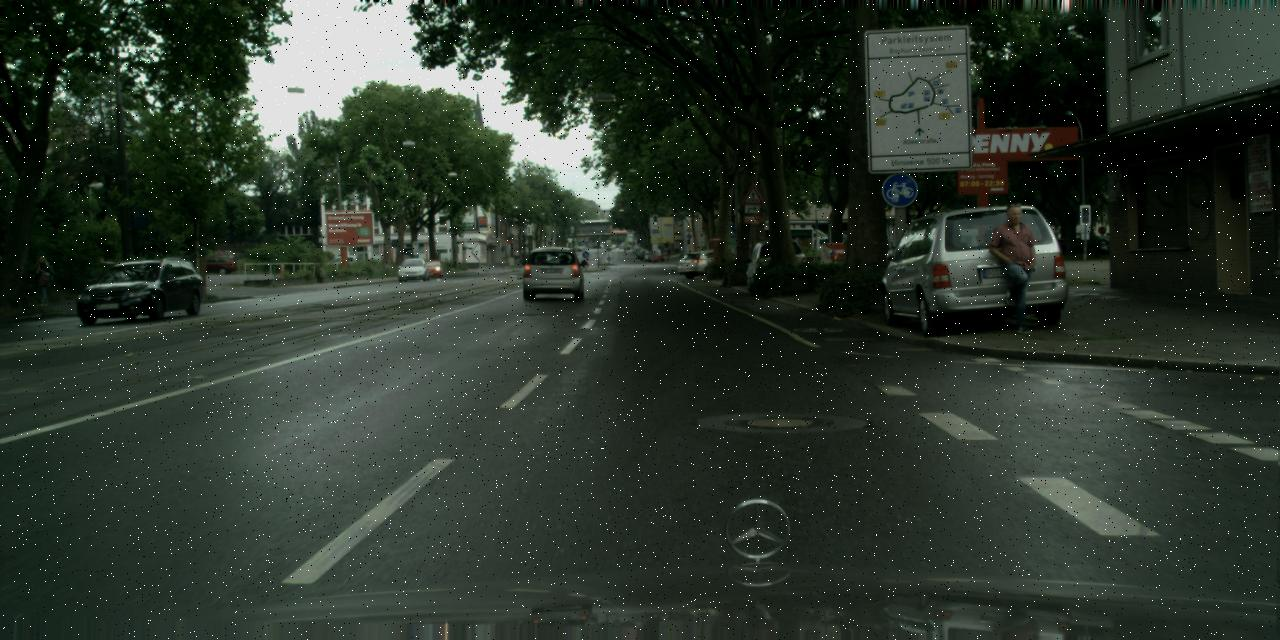ped: (991, 202, 1044, 334), (32, 256, 52, 306)
